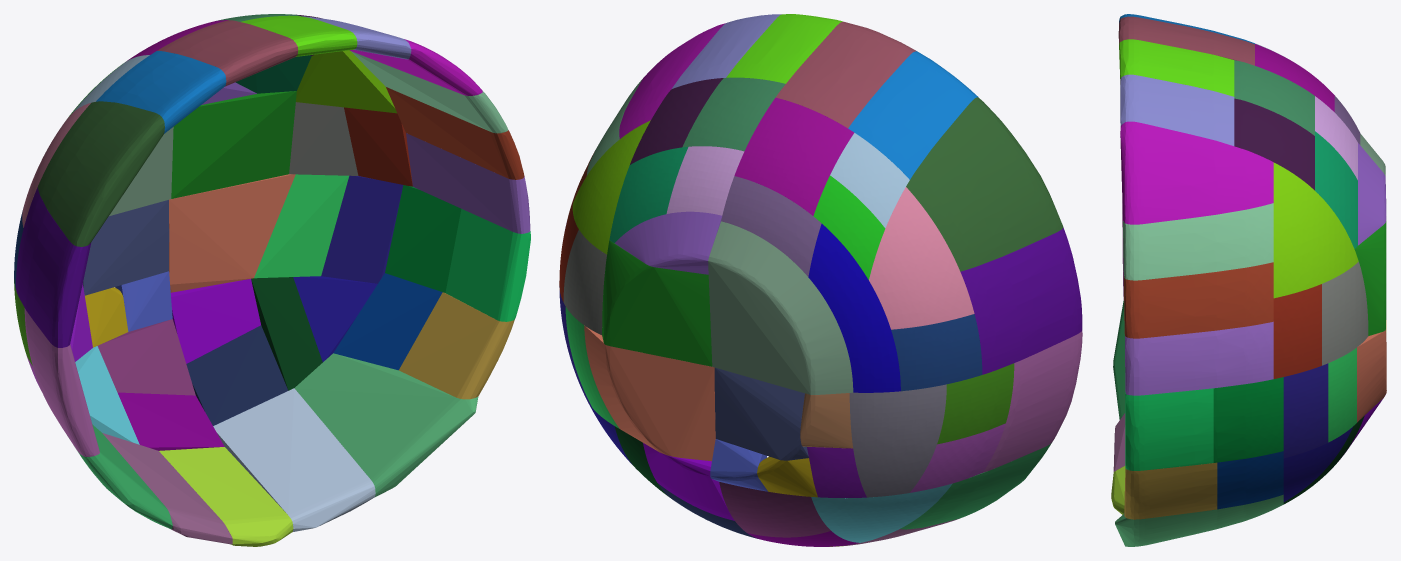
Rendered from coacd_collision.obj.
3 views of the same model, side by side, from view 1: azimuth 30°, elevation 25°; view 2: azimuth 150°, elevation 25°; view 3: azimuth 270°, elevation 25° (orthographic). The views are drawn at different scales.
Visible parts, largest first — view 1: geometry_3, geometry_6, geometry_19, geometry_8, geometry_9, geometry_37, geometry_27, geometry_23, geometry_34, geometry_36, geometry_40, geometry_18 (+30 smaller); view 2: geometry_0, geometry_19, geometry_27, geometry_9, geometry_8, geometry_24, geometry_45, geometry_29, geometry_14, geometry_5, geometry_13, geometry_7 (+31 smaller); view 3: geometry_22, geometry_31, geometry_39, geometry_40, geometry_4, geometry_23, geometry_12, geometry_33, geometry_37, geometry_17, geometry_26, geometry_15 (+19 smaller).
Part boxes in pixels (box(x1,y1,x2,y2)): geometry_3: box(294, 353, 478, 497); geometry_6: box(213, 388, 375, 532); geometry_19: box(37, 101, 164, 246); geometry_8: box(171, 91, 296, 198); geometry_9: box(169, 174, 295, 292); geometry_37: box(399, 292, 514, 399); geometry_27: box(16, 187, 91, 347); geometry_23: box(445, 209, 530, 321); geometry_34: box(159, 447, 293, 546); geometry_36: box(254, 174, 349, 278); geometry_40: box(406, 133, 530, 233); geometry_18: box(321, 175, 403, 283); geometry_0: box(708, 221, 853, 394); geometry_19: box(906, 97, 1063, 271); geometry_27: box(960, 227, 1082, 374); geometry_9: box(584, 325, 715, 461); geometry_8: box(602, 240, 712, 366); geometry_24: box(869, 187, 974, 329); geometry_45: box(849, 384, 946, 497); geometry_29: box(848, 51, 978, 179); geometry_14: box(734, 97, 854, 215); geometry_5: box(808, 224, 900, 392); geometry_13: box(775, 21, 916, 128); geometry_7: box(983, 330, 1082, 472); geometry_22: box(1120, 121, 1273, 224); geometry_31: box(1124, 262, 1273, 338); geometry_39: box(1123, 203, 1273, 280); geometry_40: box(1125, 321, 1273, 395); geometry_4: box(1273, 162, 1358, 298); geometry_23: box(1125, 388, 1213, 470); geometry_12: box(1120, 74, 1234, 145); geometry_33: box(1213, 377, 1283, 462); geometry_37: box(1124, 462, 1217, 519); geometry_17: box(1119, 39, 1234, 96); geometry_26: box(1234, 98, 1314, 190); geometry_15: box(1273, 284, 1321, 378).
Bounding box in the file's own units: 152 × 150 × 77.81.
